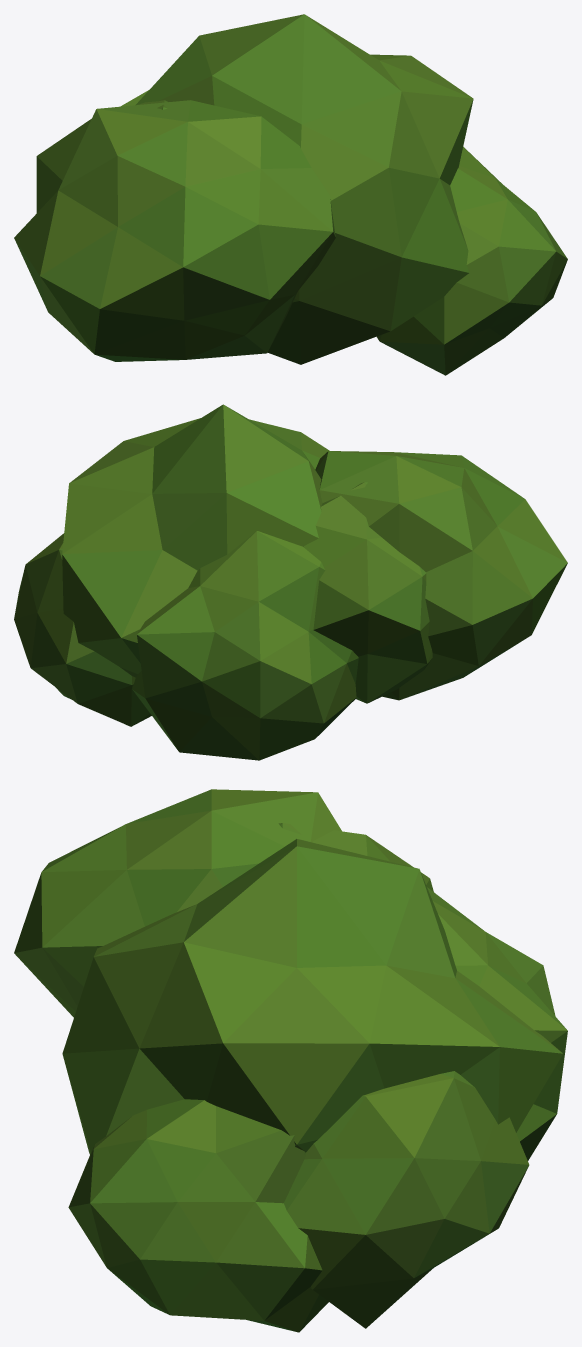
3 renders of one model, top to bottom at view 1: azimuth 30°, elevation 25°; view 2: azimuth 150°, elevation 25°; view 3: azimuth 270°, elevation 25°, orthographic. The views are drawn at different scales.
Parts seen in each view (by area): view 1: bush_a_leafy; view 2: bush_a_leafy; view 3: bush_a_leafy.
Boxes of the visible parts, x1,y1,x2,y2 form: bush_a_leafy: (14,14,567,375); bush_a_leafy: (14,404,567,760); bush_a_leafy: (14,789,567,1332).
Bounding box in the file's own units: 1.99 × 1.28 × 1.54.
